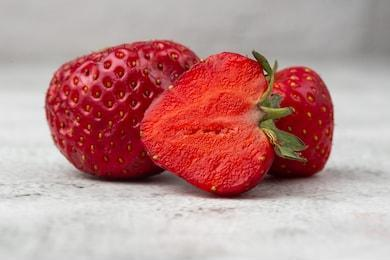Fresa: (136, 47, 281, 201)
